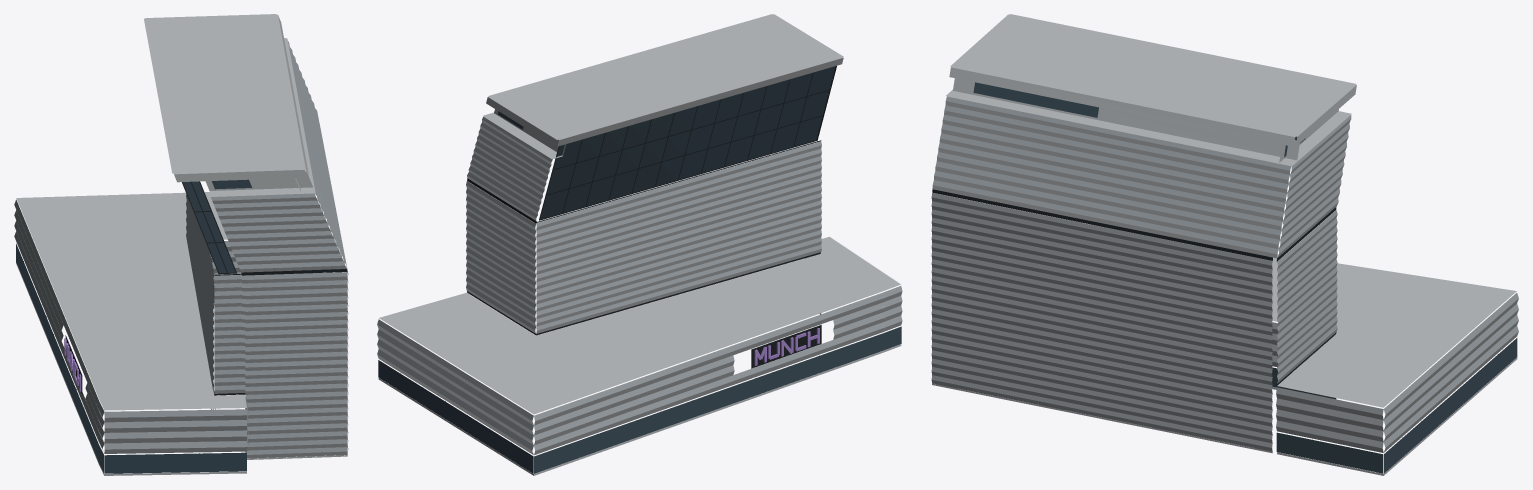
The model's file is munch-museum-far.glb.
The picture shows the model from 3 angles, left to right: view 1: azimuth 30°, elevation 25°; view 2: azimuth 150°, elevation 25°; view 3: azimuth 270°, elevation 25°; orthographic projection. The views are drawn at different scales.
Visible parts, largest first — view 1: munch-museum-0-panel, munch-museum-0-glow, munch-museum-0-glass, munch-museum-0-gap, munch-museum-0-frame; view 2: munch-museum-0-panel, munch-museum-0-glow, munch-museum-0-glass, munch-museum-0-frame, munch-museum-0-gap, munch-museum-0-sign; view 3: munch-museum-0-panel, munch-museum-0-glow, munch-museum-0-glass, munch-museum-0-gap.
Part boxes in pixels (bbox=[...]): munch-museum-0-panel: bbox=[16, 14, 347, 475]; munch-museum-0-glow: bbox=[14, 41, 348, 454]; munch-museum-0-glass: bbox=[16, 179, 252, 473]; munch-museum-0-gap: bbox=[65, 256, 347, 395]; munch-museum-0-frame: bbox=[23, 181, 237, 453]; munch-museum-0-panel: bbox=[377, 14, 902, 475]; munch-museum-0-glow: bbox=[377, 117, 902, 450]; munch-museum-0-glass: bbox=[378, 66, 901, 473]; munch-museum-0-frame: bbox=[445, 66, 836, 442]; munch-museum-0-gap: bbox=[467, 140, 821, 368]; munch-museum-0-sign: bbox=[754, 328, 819, 365]; munch-museum-0-panel: bbox=[931, 14, 1518, 475]; munch-museum-0-glow: bbox=[931, 96, 1518, 448]; munch-museum-0-glass: bbox=[973, 82, 1517, 473]; munch-museum-0-gap: bbox=[932, 189, 1336, 385].
Bounding box in the file's own units: 79.89 × 57.4 × 102.
